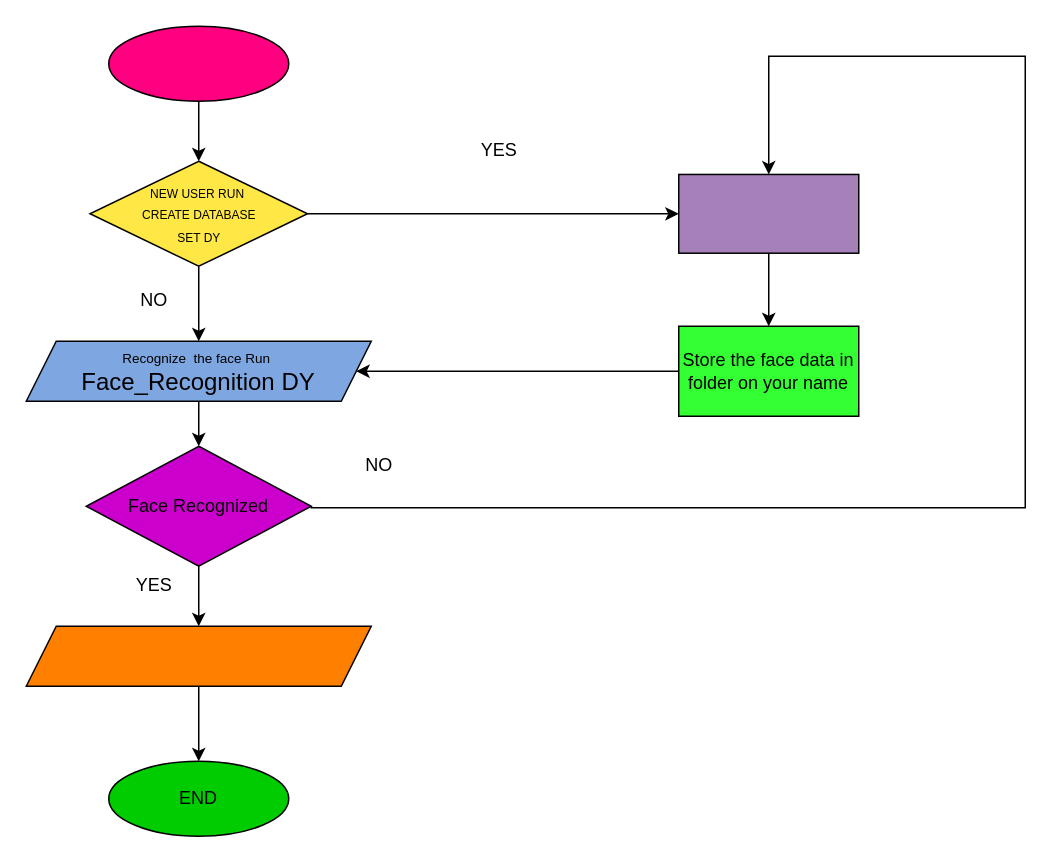
Some shapes in this 1064 by 863 pixel diagram are drawn without their labels. Here are the shapes that lost their labels. From the top down, the box of each, then its label:
(107, 25, 289, 101): START
(677, 173, 859, 253): Give your Photograph
(25, 625, 371, 686): Stored in CSVfile with Registration Number &Date_time of Entry
